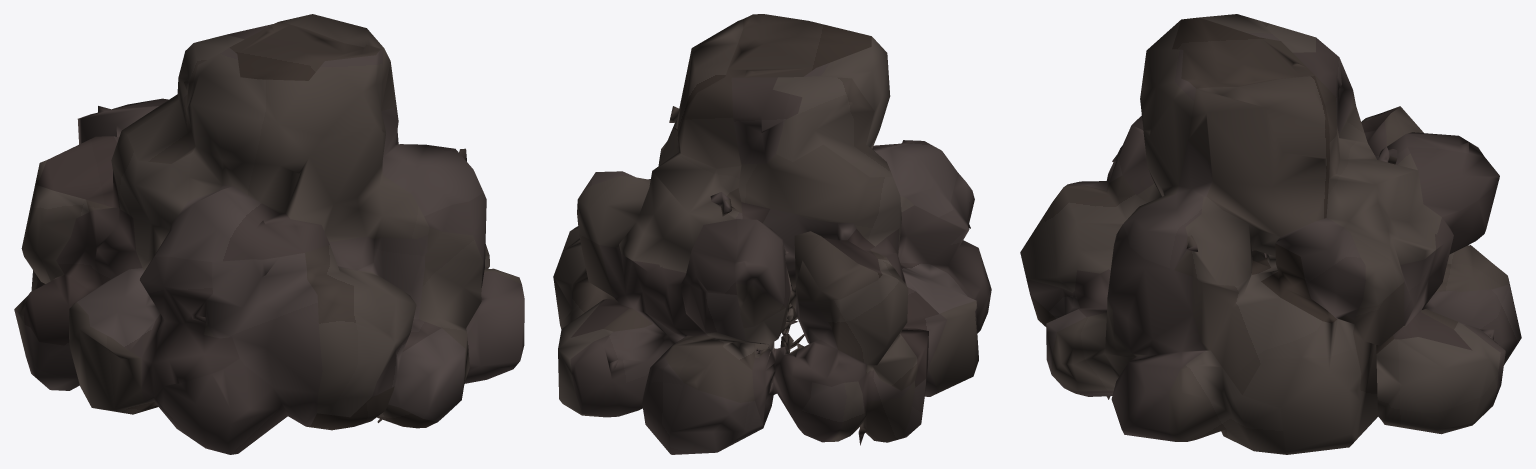
Rendered from gather_ore_vein.glb.
3 views of the same model, side by side, from view 1: azimuth 30°, elevation 25°; view 2: azimuth 150°, elevation 25°; view 3: azimuth 270°, elevation 25° (orthographic). The views are drawn at different scales.
Visible parts, largest first — view 1: tripo_node_707ecfb8-a626-48cc-9068-f65a1df86c39; view 2: tripo_node_707ecfb8-a626-48cc-9068-f65a1df86c39; view 3: tripo_node_707ecfb8-a626-48cc-9068-f65a1df86c39.
Part boxes in pixels (x1=…): tripo_node_707ecfb8-a626-48cc-9068-f65a1df86c39: x1=14, y1=14, x2=524, y2=454; tripo_node_707ecfb8-a626-48cc-9068-f65a1df86c39: x1=553, y1=14, x2=991, y2=454; tripo_node_707ecfb8-a626-48cc-9068-f65a1df86c39: x1=1020, y1=14, x2=1521, y2=454.
Size of the model in its own units: 0.9016 by 0.7743 by 0.999.
Materials: 1 (1 with a texture image).
